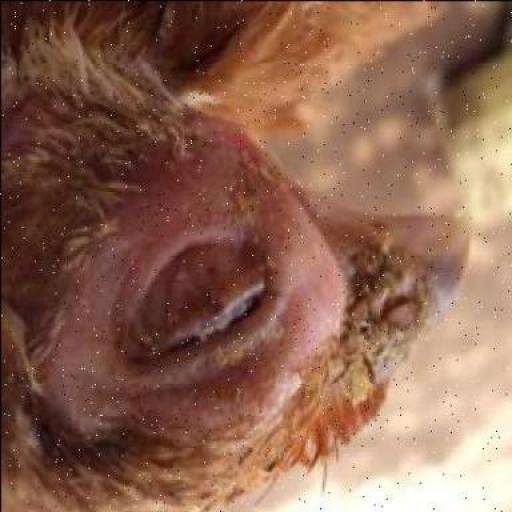disease: (30, 158, 476, 453)
